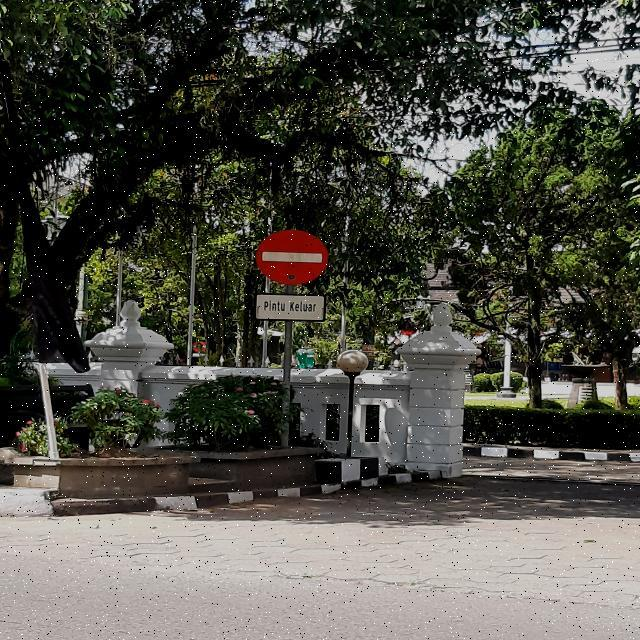Dilarang Masuk: (256, 230, 328, 284)
